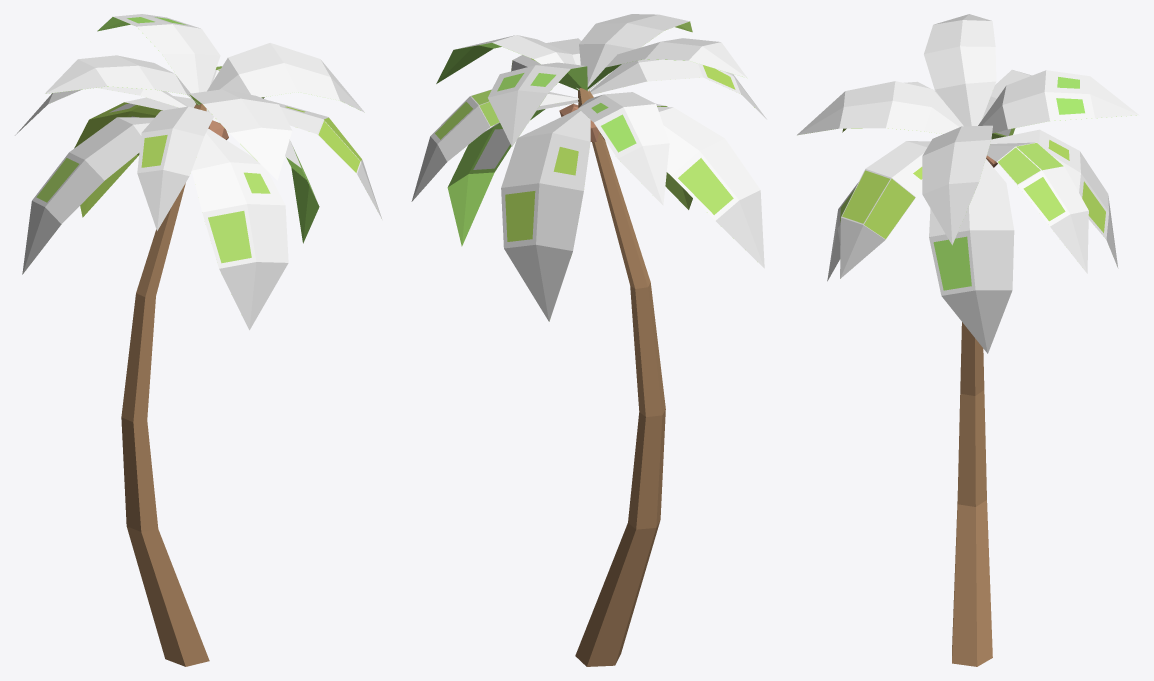
Rendered from Palm_Tree_Coconut_l_Snow_03_LOD.fbx.
3 views of the same model, side by side, from view 1: azimuth 30°, elevation 25°; view 2: azimuth 150°, elevation 25°; view 3: azimuth 270°, elevation 25° (orthographic). The views are drawn at different scales.
Parts seen in each view (by area): view 1: Palm_Tree_Coconut_l_Snow_03_LOD0; view 2: Palm_Tree_Coconut_l_Snow_03_LOD0; view 3: Palm_Tree_Coconut_l_Snow_03_LOD0.
Boxes of the visible parts, x1,y1,x2,y2 form: Palm_Tree_Coconut_l_Snow_03_LOD0: (15,14,382,666); Palm_Tree_Coconut_l_Snow_03_LOD0: (411,14,766,666); Palm_Tree_Coconut_l_Snow_03_LOD0: (797,14,1139,666).
Size of what is drawn, in the model's own units: 442 by 784 by 412.
